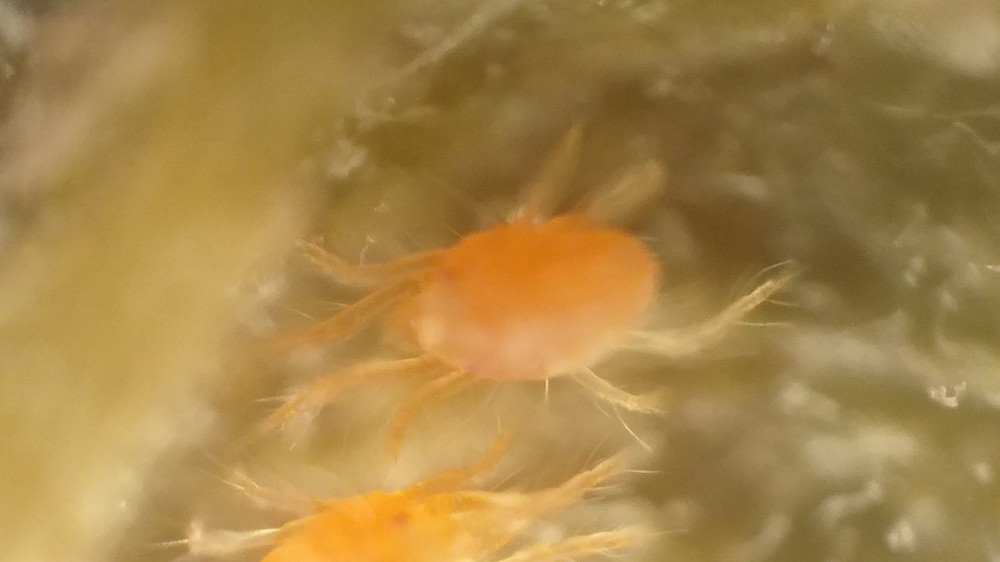Aracnido Rojo: (231, 127, 817, 453), (164, 436, 736, 562)
